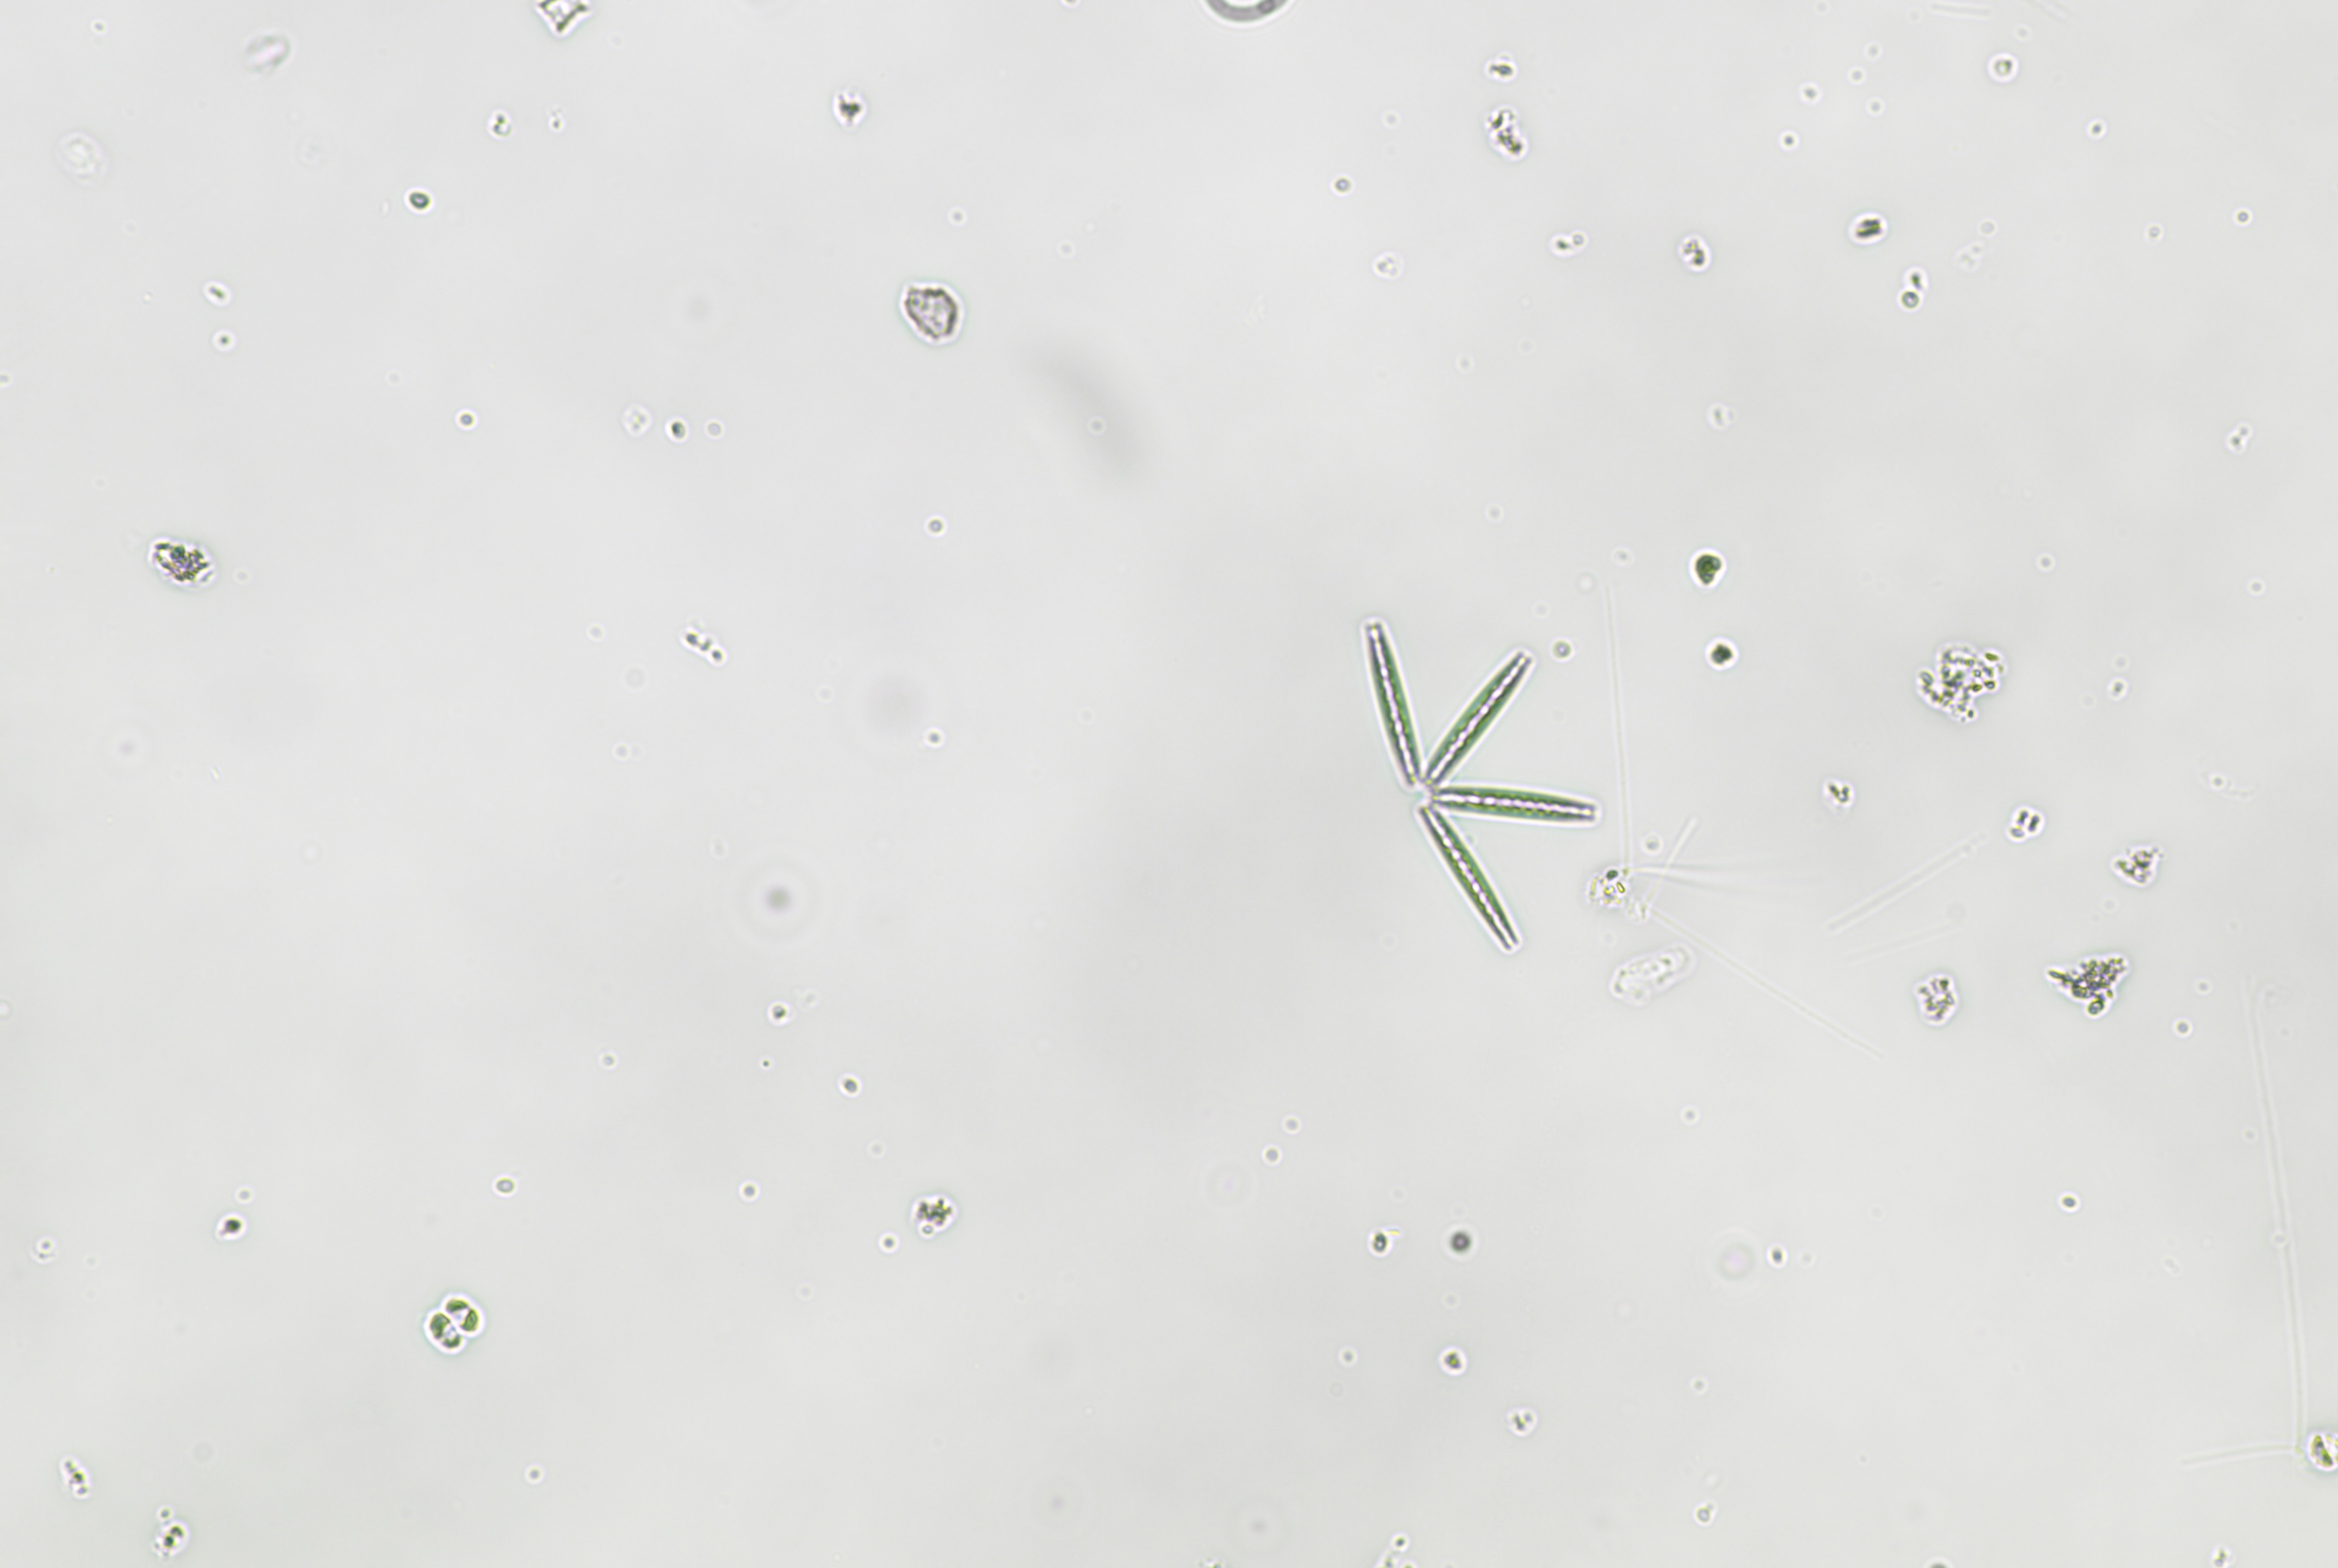thalassionema nitzschioides: (1346, 612, 1589, 945)
